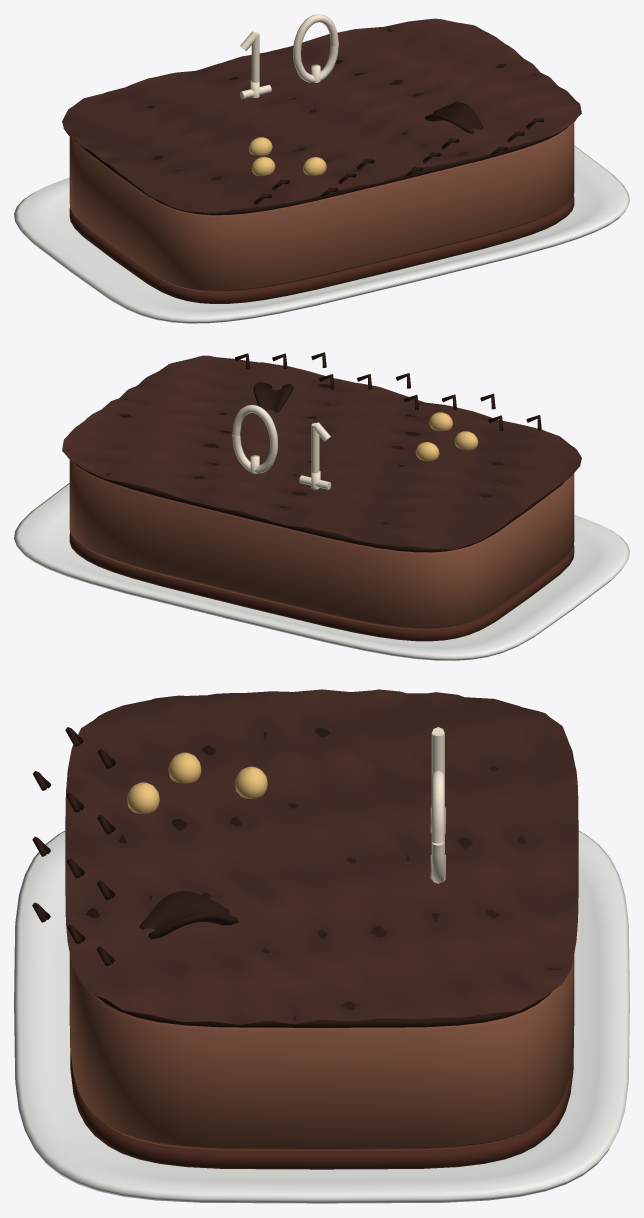
Rendered from cake-10.88115b43a0e9.glb.
3 renders of one model, top to bottom at view 1: azimuth 30°, elevation 25°; view 2: azimuth 150°, elevation 25°; view 3: azimuth 270°, elevation 25°, orthographic. The views are drawn at different scales.
Parts seen in each view (by area): view 1: Irregular_hand_spread_food_surface, Soft_mousse_body, Clean_porcelain_plate, Thin_sponge_foundation, PART_FOOD_ROOT_MAT_chocolate, PART_FOOD_ROOT_MAT_number_wax, PART_FOOD_ROOT_MAT_seed; view 2: Irregular_hand_spread_food_surface, Soft_mousse_body, Clean_porcelain_plate, Thin_sponge_foundation, PART_FOOD_ROOT_MAT_chocolate, PART_FOOD_ROOT_MAT_number_wax, PART_FOOD_ROOT_MAT_seed; view 3: Irregular_hand_spread_food_surface, Soft_mousse_body, Clean_porcelain_plate, Thin_sponge_foundation, PART_FOOD_ROOT_MAT_chocolate, PART_FOOD_ROOT_MAT_seed, PART_FOOD_ROOT_MAT_number_wax.
Part boxes in pixels (left/top/right/bottom): Irregular_hand_spread_food_surface: left=62, top=18, right=581, bottom=213; Soft_mousse_body: left=69, top=122, right=574, bottom=292; Clean_porcelain_plate: left=14, top=145, right=629, bottom=323; Thin_sponge_foundation: left=69, top=194, right=574, bottom=303; PART_FOOD_ROOT_MAT_chocolate: left=74, top=29, right=567, bottom=215; PART_FOOD_ROOT_MAT_number_wax: left=240, top=14, right=338, bottom=99; PART_FOOD_ROOT_MAT_seed: left=248, top=137, right=326, bottom=176; Irregular_hand_spread_food_surface: left=62, top=355, right=581, bottom=549; Soft_mousse_body: left=69, top=459, right=574, bottom=629; Clean_porcelain_plate: left=14, top=483, right=629, bottom=660; Thin_sponge_foundation: left=69, top=532, right=574, bottom=641; PART_FOOD_ROOT_MAT_chocolate: left=74, top=352, right=565, bottom=552; PART_FOOD_ROOT_MAT_number_wax: left=232, top=405, right=331, bottom=489; PART_FOOD_ROOT_MAT_seed: left=415, top=412, right=478, bottom=461; Irregular_hand_spread_food_surface: left=65, top=689, right=578, bottom=1024; Soft_mousse_body: left=69, top=954, right=574, bottom=1150; Clean_porcelain_plate: left=14, top=831, right=629, bottom=1203; Thin_sponge_foundation: left=69, top=1006, right=574, bottom=1169; PART_FOOD_ROOT_MAT_chocolate: left=32, top=727, right=561, bottom=1027; PART_FOOD_ROOT_MAT_seed: left=127, top=752, right=267, bottom=813; PART_FOOD_ROOT_MAT_number_wax: left=430, top=727, right=445, bottom=883.
Size of the model in its own units: 0.2245 by 0.0722 by 0.1484.
